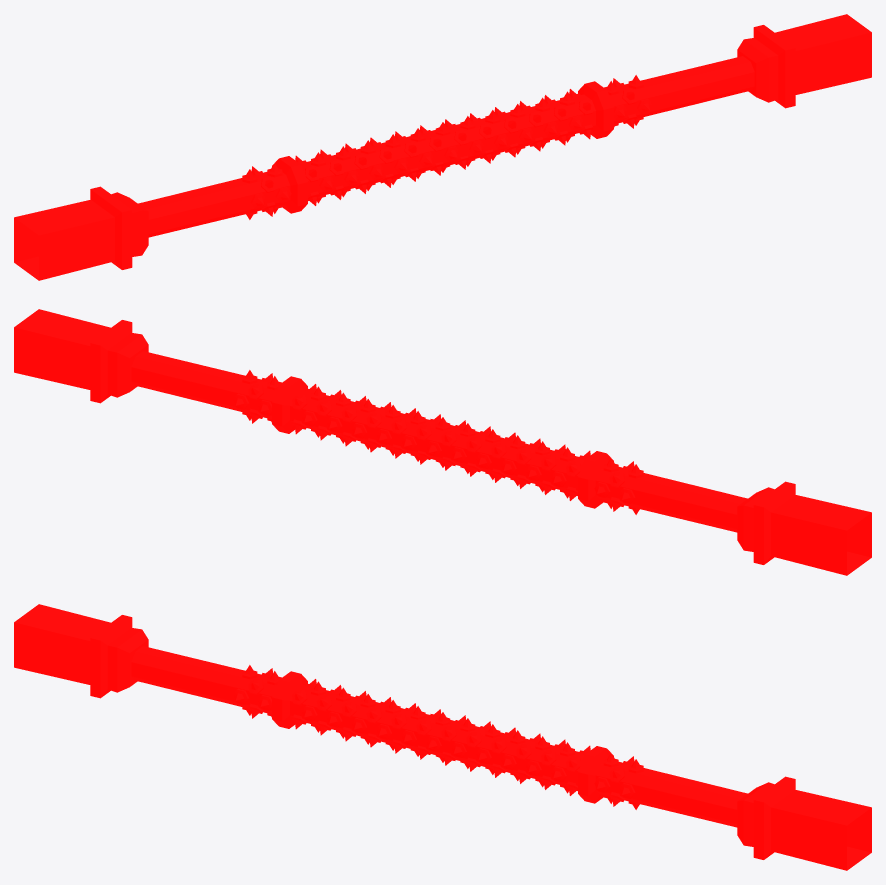
Rendered from Pillar_Outline.FBX.
3 renders of one model, top to bottom at view 1: azimuth 30°, elevation 25°; view 2: azimuth 150°, elevation 25°; view 3: azimuth 330°, elevation 25°, orthographic.
Visible parts, largest first — view 1: Pole001; view 2: Pole001; view 3: Pole001.
Part boxes in pixels (bbox=[...]): Pole001: bbox=[14, 14, 871, 280]; Pole001: bbox=[14, 309, 871, 575]; Pole001: bbox=[14, 604, 871, 870].
Bounding box in the file's own units: 3343 × 222 × 222.
